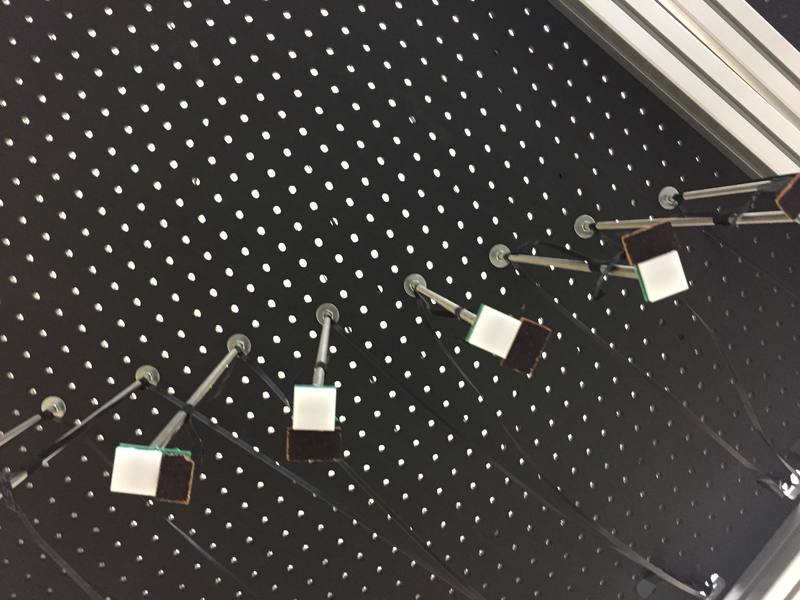target: (463, 303, 522, 362), (638, 248, 691, 304), (109, 444, 162, 497), (292, 385, 339, 432)
